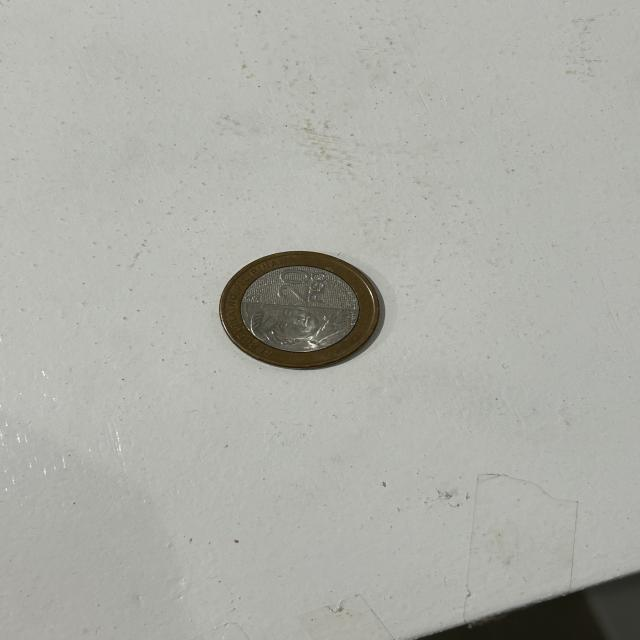20_New_Front: (266, 260, 336, 305)
